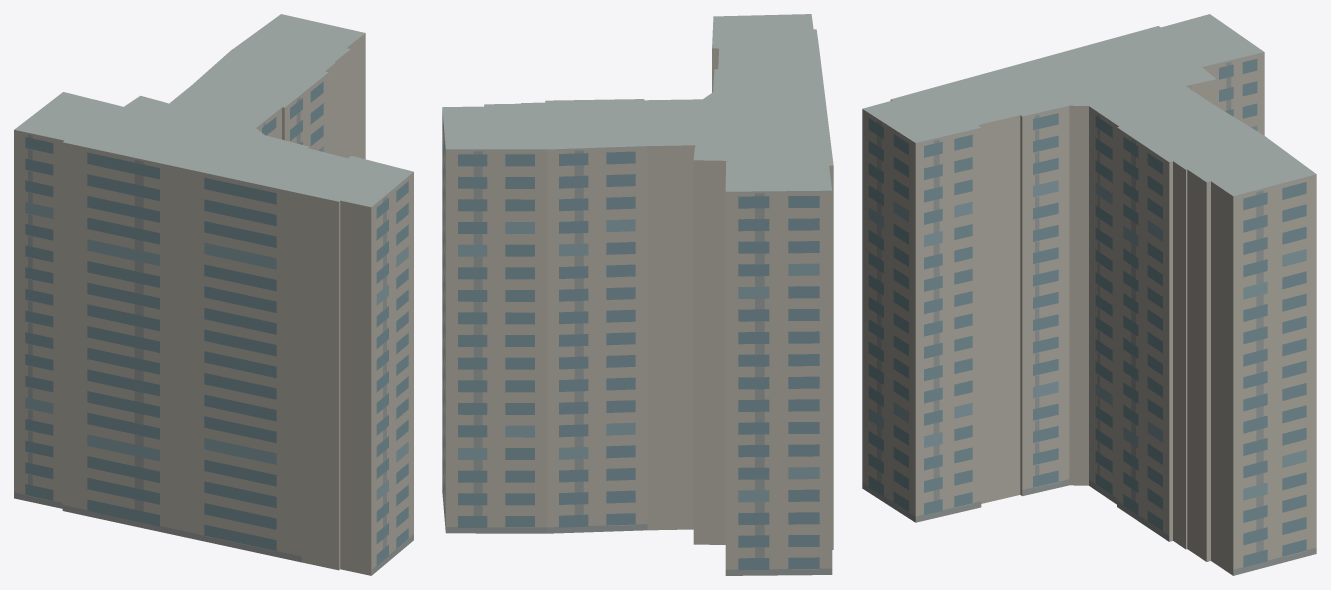
File: residential-54e80aae-e52e-478c-bd4b-19b5abc278e6.glb
3 views of the same model, side by side, from view 1: azimuth 30°, elevation 25°; view 2: azimuth 150°, elevation 25°; view 3: azimuth 270°, elevation 25° (orthographic). The views are drawn at different scales.
Parts seen in each view (by area): view 1: residential-54e80aae-e52e-478c-bd4b-19b5abc278e6.tmp; view 2: residential-54e80aae-e52e-478c-bd4b-19b5abc278e6.tmp; view 3: residential-54e80aae-e52e-478c-bd4b-19b5abc278e6.tmp.
Boxes of the visible parts, x1,y1,x2,y2 form: residential-54e80aae-e52e-478c-bd4b-19b5abc278e6.tmp: (14, 14, 413, 575); residential-54e80aae-e52e-478c-bd4b-19b5abc278e6.tmp: (442, 14, 833, 575); residential-54e80aae-e52e-478c-bd4b-19b5abc278e6.tmp: (862, 14, 1316, 575).
Bounding box in the file's own units: 49.31 × 47.88 × 51.95.
